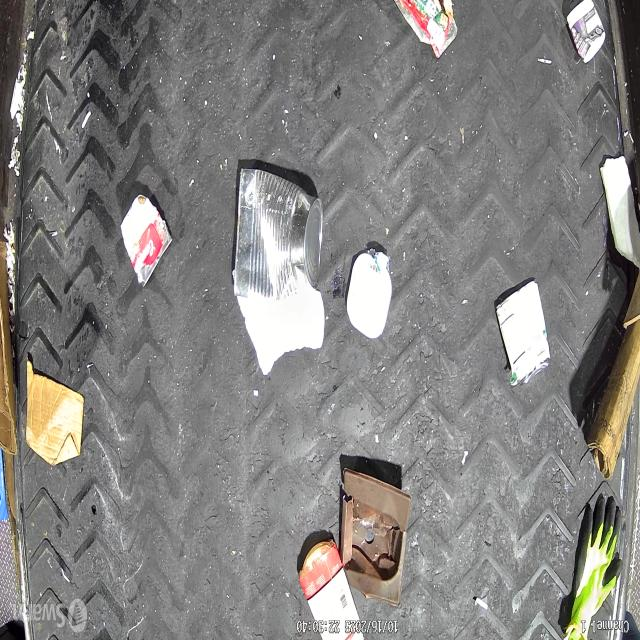can: (234, 168, 323, 300), (494, 277, 552, 388), (120, 194, 172, 288)
